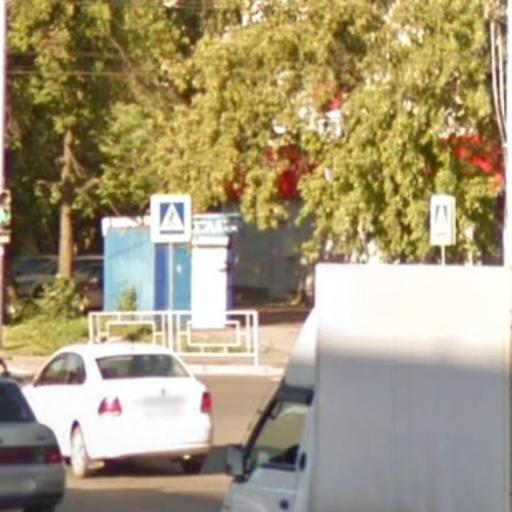traffic_sign: (150, 194, 194, 246)
